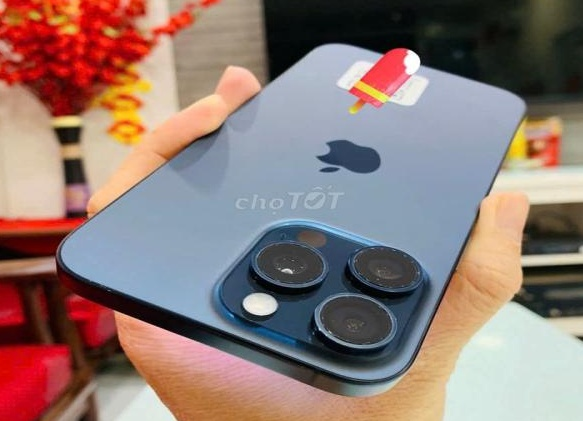scratch: (251, 231, 433, 363)
